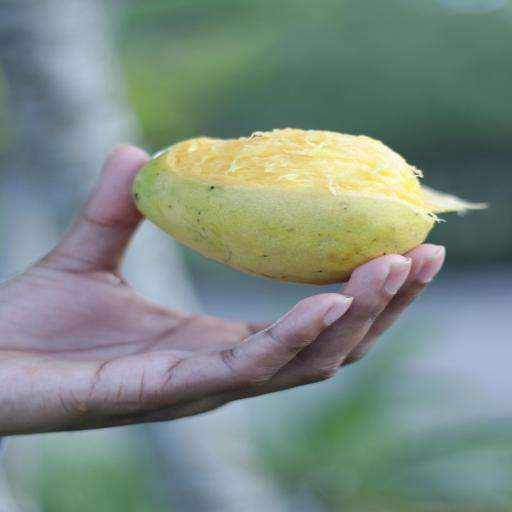Mango-Detection: (80, 96, 502, 367)
